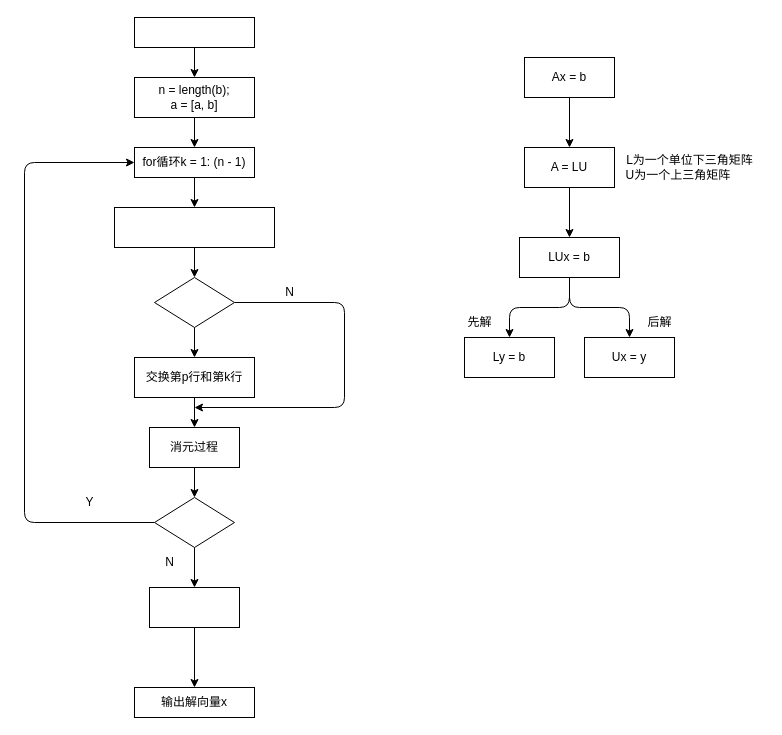
Some shapes in this 782 by 735 pixel diagram are drawn without their labels. Each missing label, with the centre of its shape:
k <= n - 1?: [194,522]
p > k?: [194,302]
回代过程: [194,607]
输入矩阵a, 列向量b: [194,32]
选列主元|apk|=max|aik| k <= i <= n: [194,227]
